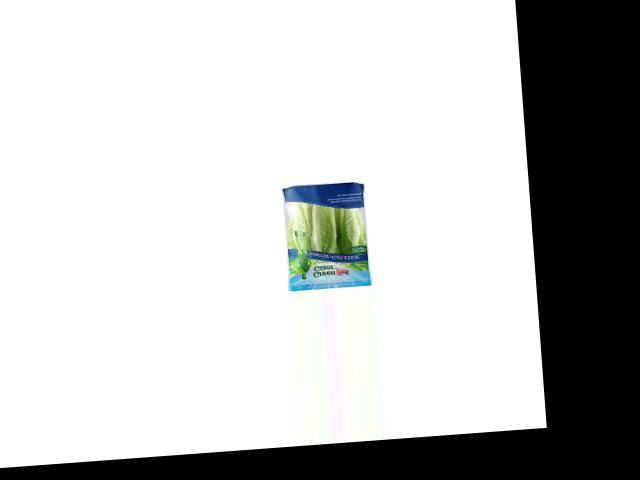lettuce: (278, 176, 372, 287)
